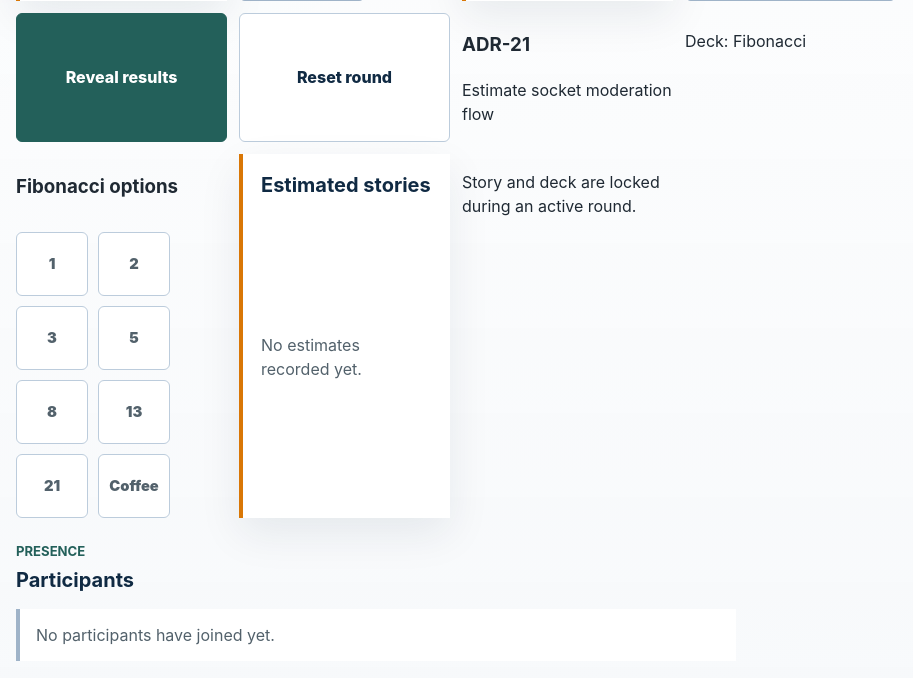
ModeratorSessionView › submits moderator votes with the stored moderator token and does not render the token
(page scrolled)
Click the button named "Submit moderator vote 8": (52, 412) x1=16 y1=380 x2=88 y2=444
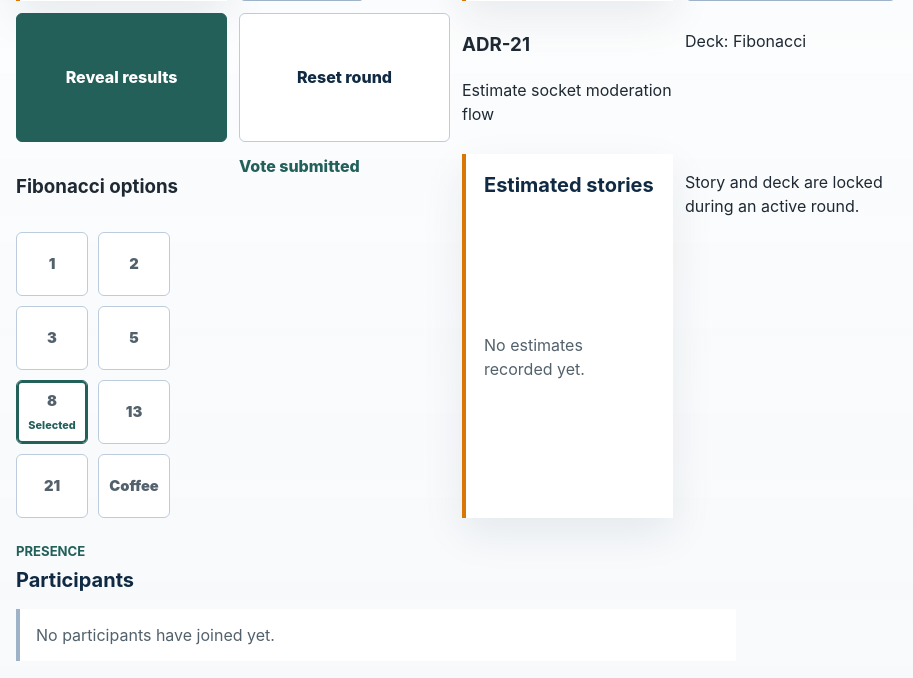
Expected: the text "Vote submitted" is shown, x1=239 y1=156 x2=360 y2=176
